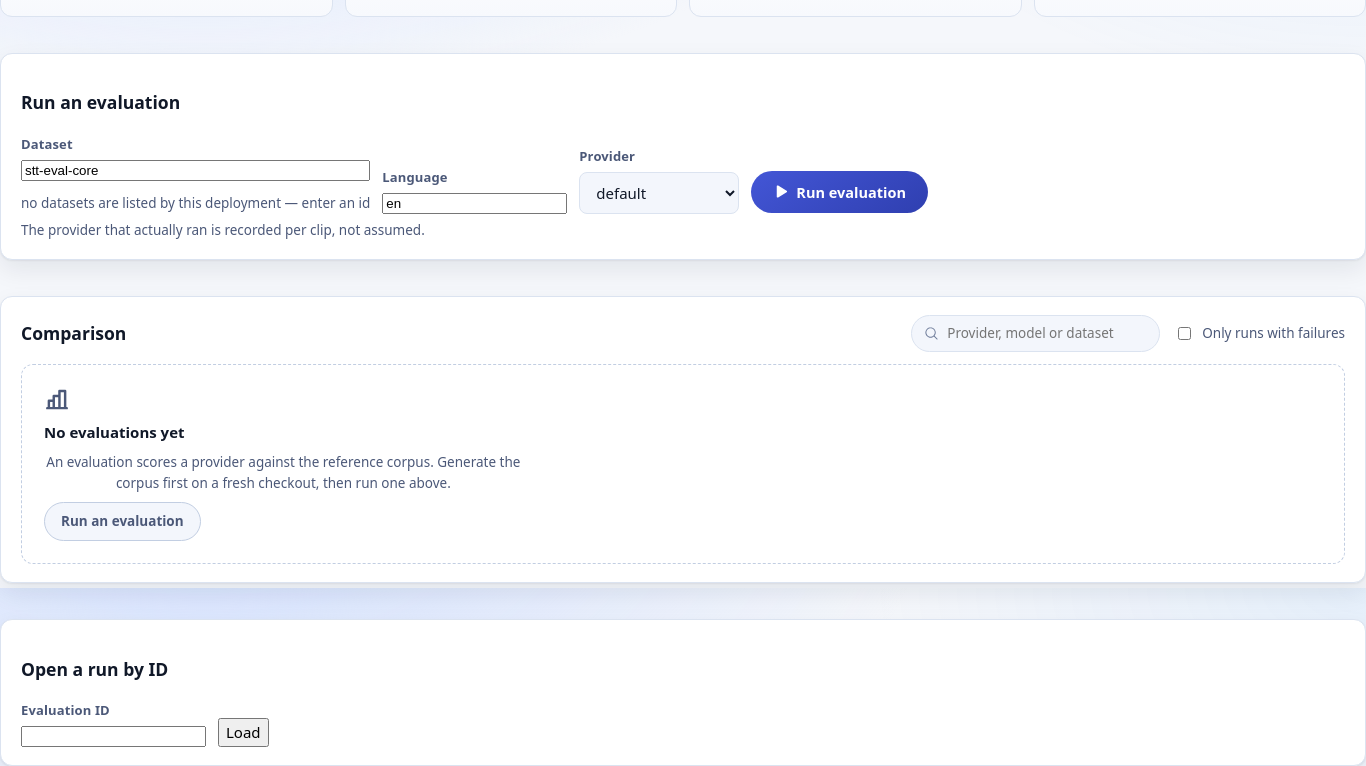
per-clip scores are visible for a loaded evaluation
The width and height of the screenshot is (1366, 766).
(page scrolled)
Type "eval-1" into the field labelled "Evaluation ID" at (114, 737), box [21,726,206,748]
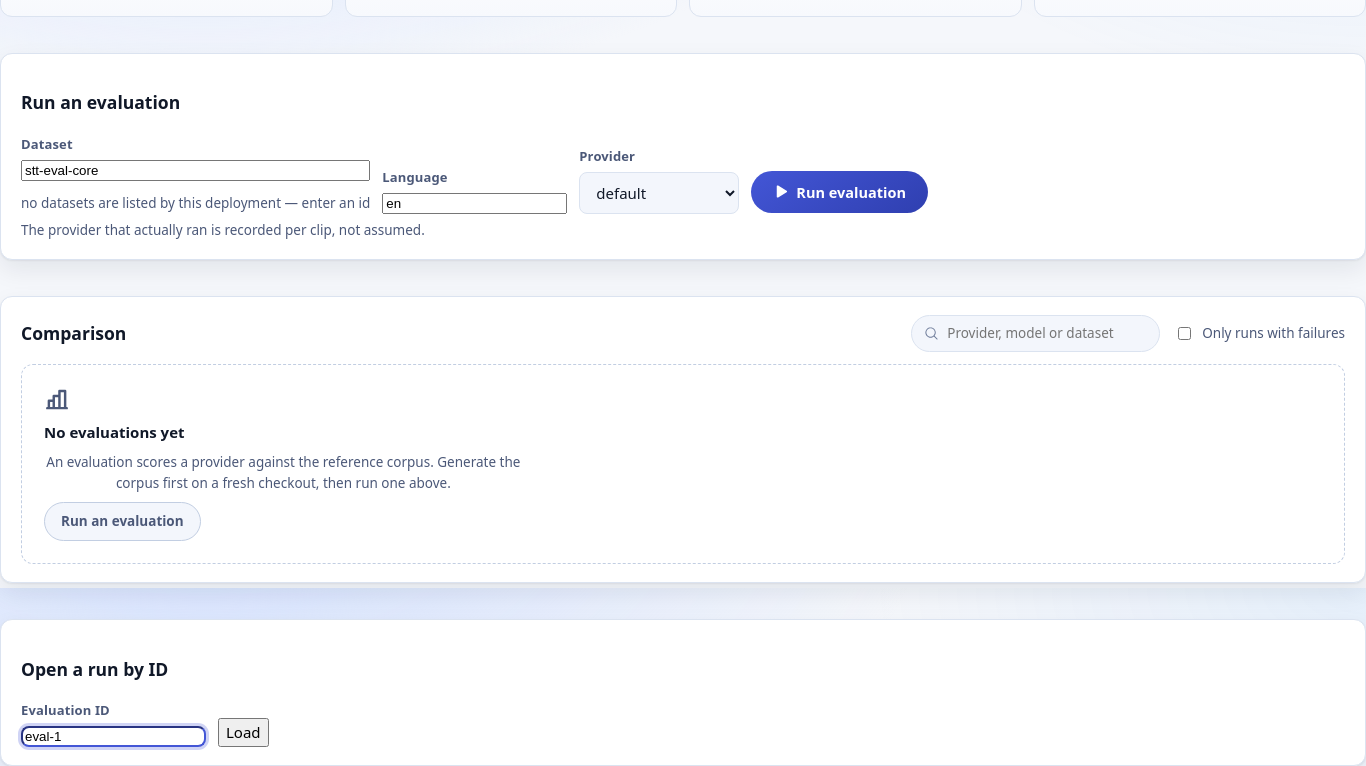
Click the button "Load" at (243, 733), box [218,718,269,748]
(page scrolled)
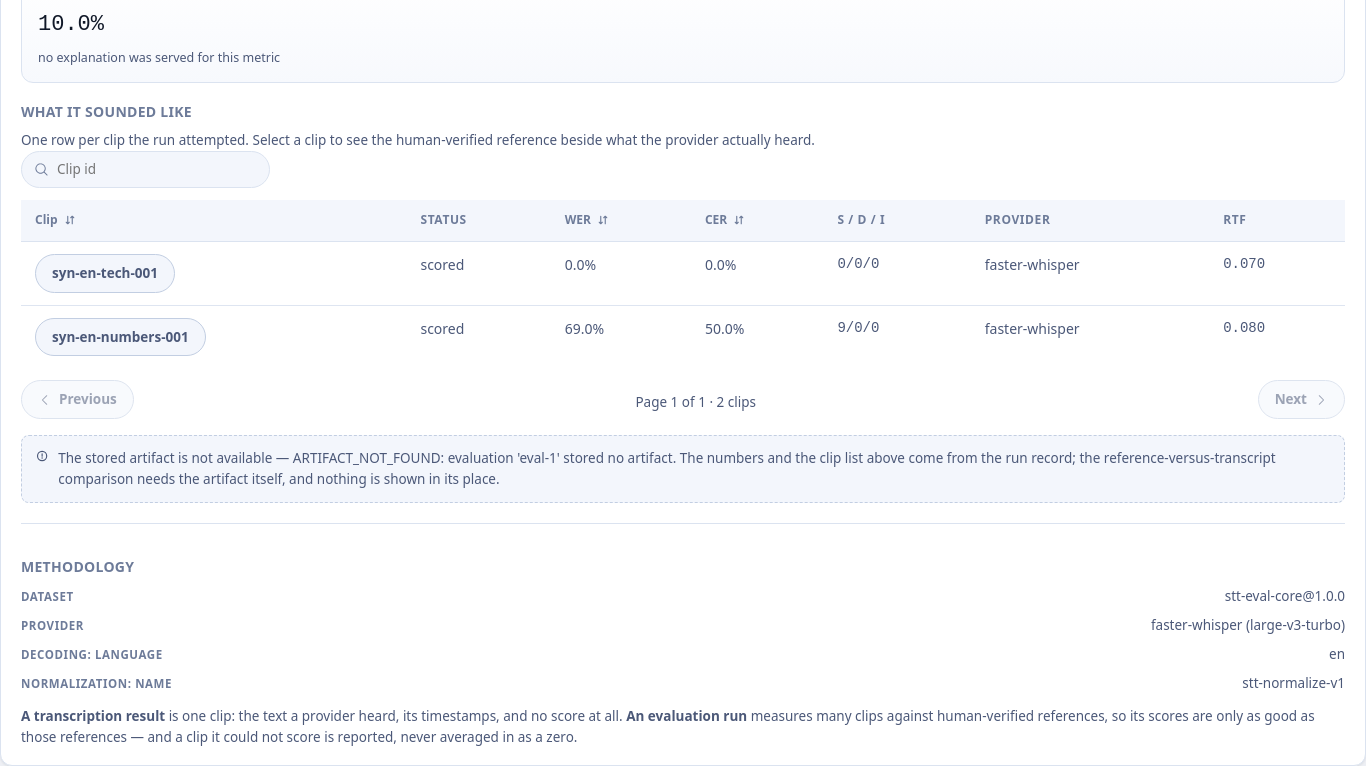
Now the button "syn-en-tech-001" is shown, box [35,254,175,292]
Now the button "syn-en-numbers-001" is shown, box [35,318,206,356]
Now the text "69.0%" is shown, box [551,305,691,368]
